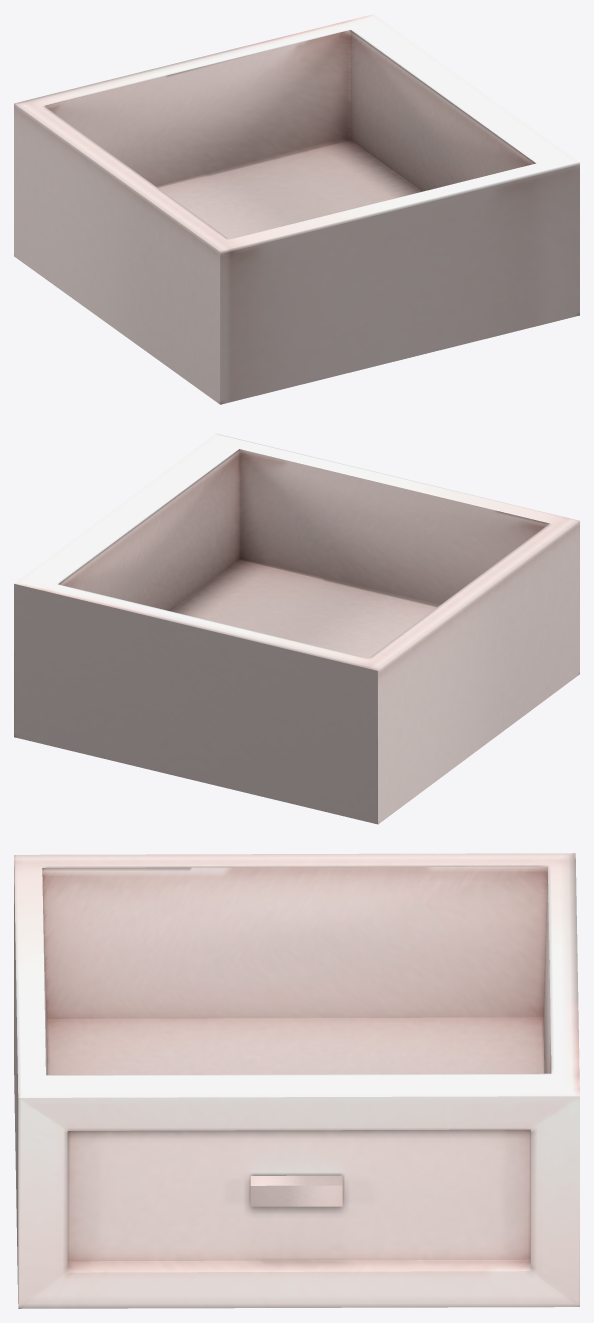
Rendered from drawer2.glb.
3 views of the same model, one above another, from view 1: azimuth 30°, elevation 25°; view 2: azimuth 150°, elevation 25°; view 3: azimuth 270°, elevation 25° (orthographic). The views are drawn at different scales.
Parts seen in each view (by area): view 1: frl_apartment_lower_shelf_01_part_04; view 2: frl_apartment_lower_shelf_01_part_04; view 3: frl_apartment_lower_shelf_01_part_04.
Part boxes in pixels (x1,y1,x2,y2): frl_apartment_lower_shelf_01_part_04: (14,14,579,404); frl_apartment_lower_shelf_01_part_04: (14,433,579,824); frl_apartment_lower_shelf_01_part_04: (14,853,579,1308).
Bounding box in the file's own units: 0.615 × 0.2469 × 0.6008.
1 material, 1 textured.
